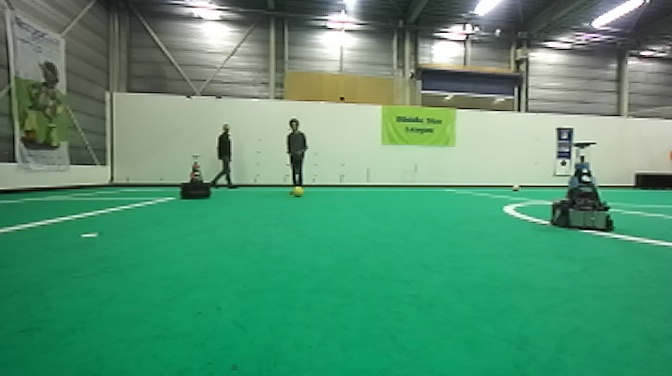ball: (292, 184, 304, 200), (510, 182, 522, 194)
human: (282, 116, 314, 191), (210, 121, 236, 191)
robot: (549, 139, 616, 232), (177, 153, 215, 201)
